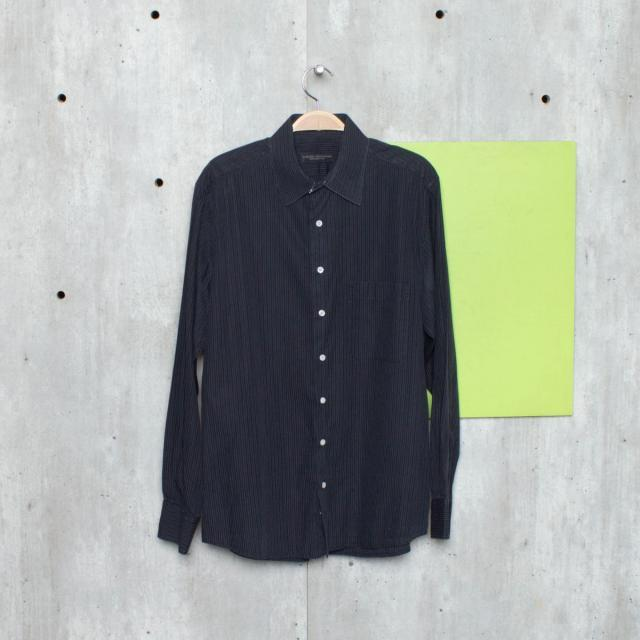long sleeve shirt: (154, 109, 466, 565)
